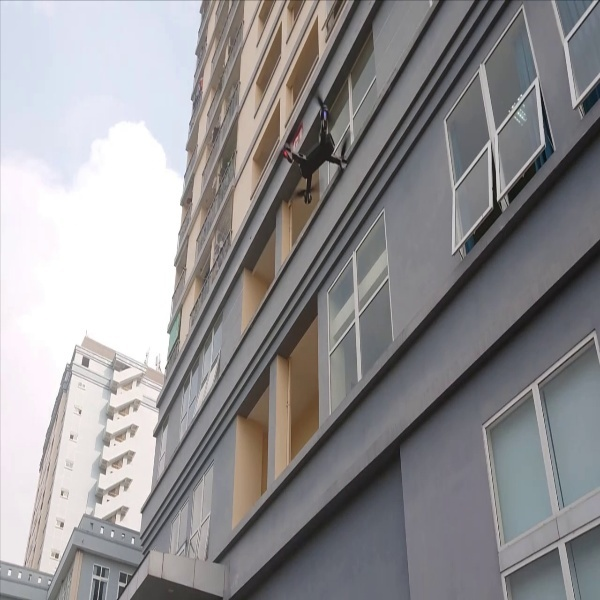drone: (277, 87, 355, 206)
